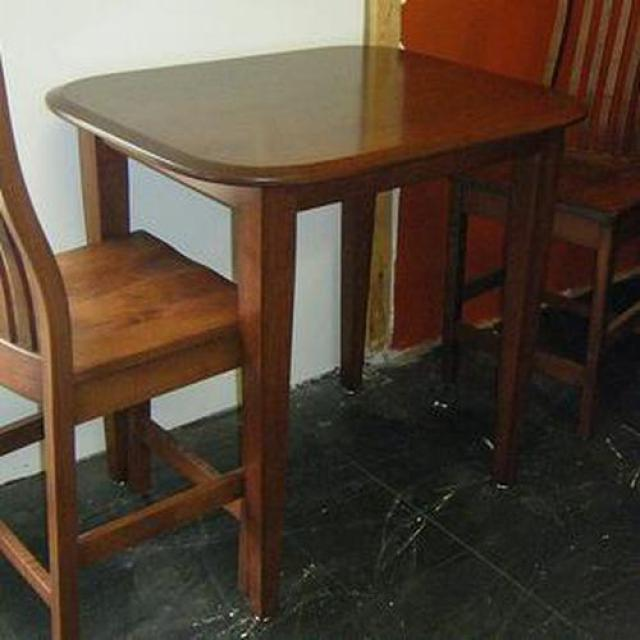table: (44, 46, 585, 621)
